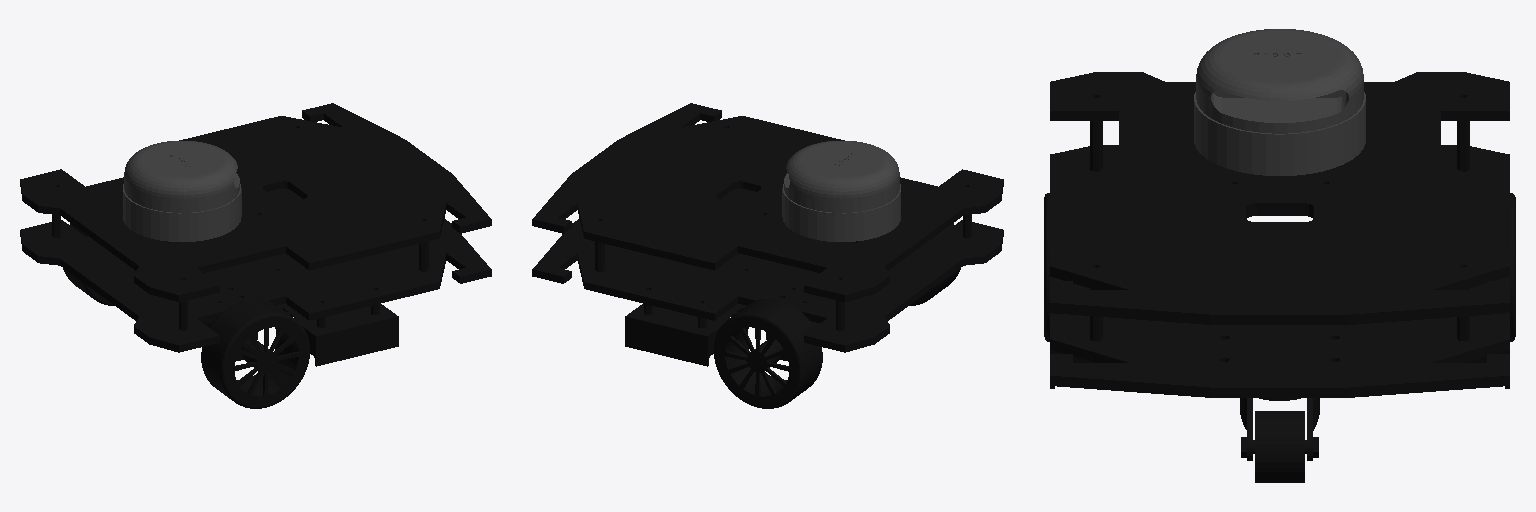
robot.urdf — pibot_description:
<robot
  name="pibot_description">
  <link
    name="base_link">
    <inertial>
      <origin
        xyz="-0.021088 -2.5229E-07 -0.0016872"
        rpy="0 0 0" />
      <mass
        value="1.1852" />
      <inertia
        ixx="0.0044133"
        ixy="2.4428E-08"
        ixz="-0.00050667"
        iyy="0.0048259"
        iyz="-9.0612E-09"
        izz="0.0079062" />
    </inertial>
    <visual>
      <origin
        xyz="0.055 0 0.05"
        rpy="0 0 0" />
      <geometry>
        <mesh
          filename="package://pibot_description/meshes/apollo/base_link.stl" />
      </geometry>
      <material
        name="">
        <color
          rgba="0.1 0.1 0.1 1" />
      </material>
    </visual>
    <collision>
      <origin
        xyz="0 0 0"
        rpy="0 0 0" />
      <geometry>
        <mesh
          filename="package://pibot_description/meshes/apollo/base_link.stl" />
      </geometry>
    </collision>
  </link>
  <link
    name="laser_link">
    <inertial>
      <origin
        xyz="-0.001753 9.7044E-08 0.018367"
        rpy="0 0 0" />
      <mass
        value="0.17934" />
      <inertia
        ixx="8.4514E-05"
        ixy="7.288E-12"
        ixz="3.6379E-06"
        iyy="7.9969E-05"
        iyz="-3.7962E-10"
        izz="0.00011888" />
    </inertial>
    <visual>
      <origin
        xyz="0 0 0"
        rpy="0 0 0" />
      <geometry>
        <mesh
          filename="package://pibot_description/meshes/apollo/laser_link.stl" />
      </geometry>
      <material
        name="">
        <color
          rgba="0.3 0.3 0.3 1" />
      </material>
    </visual>
    <collision>
      <origin
        xyz="0 0 0"
        rpy="0 0 0" />
      <geometry>
        <mesh
          filename="package://pibot_description/meshes/apollo/laser_link.stl" />
      </geometry>
    </collision>
  </link>
  <joint
    name="laser_link_joint"
    type="fixed">
    <origin
      xyz="0 0 0.09"
      rpy="0 0 0" />
    <parent
      link="base_link" />
    <child
      link="laser_link" />
    <axis
      xyz="0 0 0" />
  </joint>
</robot>

--- Render facts (derived) ---
3 views of the same robot in one strip: view 1: azimuth 30°, elevation 25°; view 2: azimuth 150°, elevation 25°; view 3: azimuth 270°, elevation 25° (orthographic).
Robot: pibot_description — 2 links, 1 joints (1 fixed); root link base_link; default pose: every joint at zero.
Visible links, largest first — view 1: base_link, laser_link; view 2: base_link, laser_link; view 3: base_link, laser_link.
Link boxes in pixels (bbox=[...]): base_link: bbox=[20, 103, 491, 408]; laser_link: bbox=[123, 140, 241, 241]; base_link: bbox=[532, 103, 1003, 408]; laser_link: bbox=[782, 141, 900, 241]; base_link: bbox=[1044, 72, 1515, 482]; laser_link: bbox=[1194, 29, 1365, 175].
Bounding box of the posed robot: 0.25 × 0.205 × 0.1325 m (x, y, z).
2 mesh visuals loaded from 2 distinct referenced files (2 binary STL).